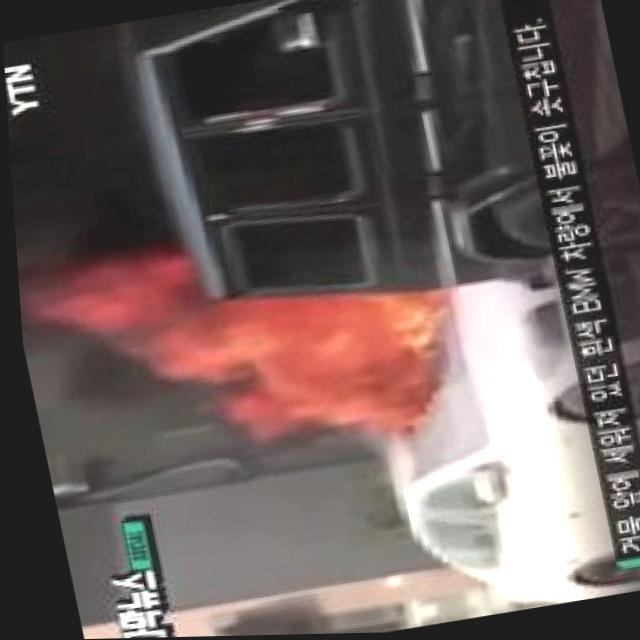Fire: (11, 198, 474, 503)
